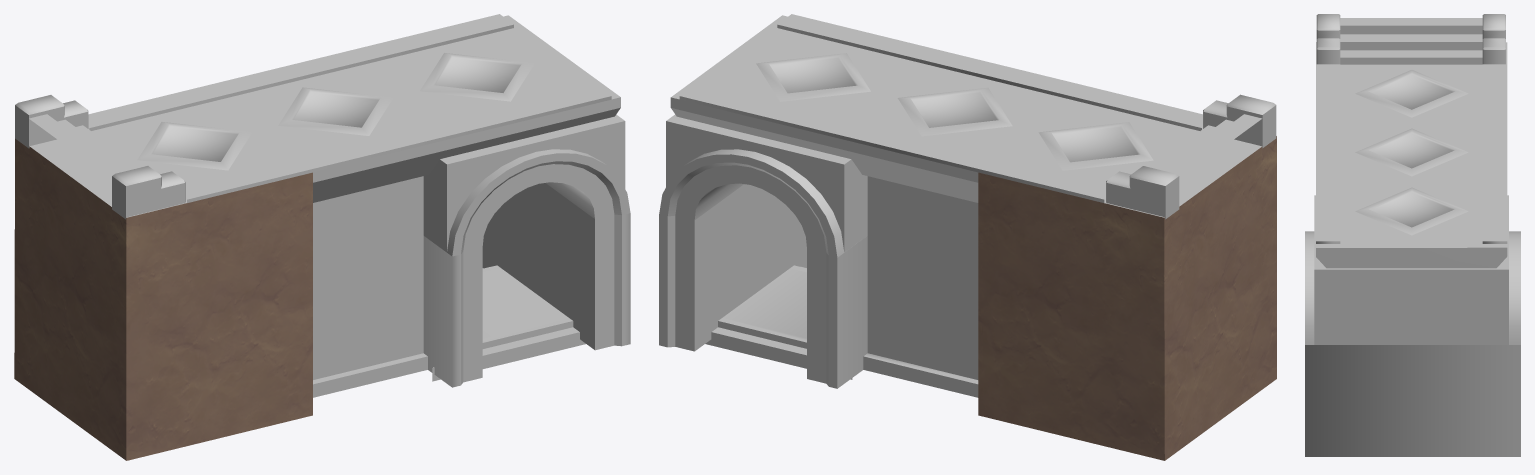
Rendered from pop_StageBridgeDire.fbx.
The picture shows the model from 3 angles, left to right: view 1: azimuth 30°, elevation 25°; view 2: azimuth 150°, elevation 25°; view 3: azimuth 270°, elevation 25°; orthographic projection. The views are drawn at different scales.
Parts seen in each view (by area): view 1: pop_StageBridgeDire; view 2: pop_StageBridgeDire; view 3: pop_StageBridgeDire.
Boxes of the visible parts, x1=… form: pop_StageBridgeDire: x1=14, y1=14, x2=630, y2=460; pop_StageBridgeDire: x1=659, y1=14, x2=1276, y2=460; pop_StageBridgeDire: x1=1305, y1=14, x2=1520, y2=456.
Size of what is drawn, in the model's own units: 1205 by 655 by 530.
